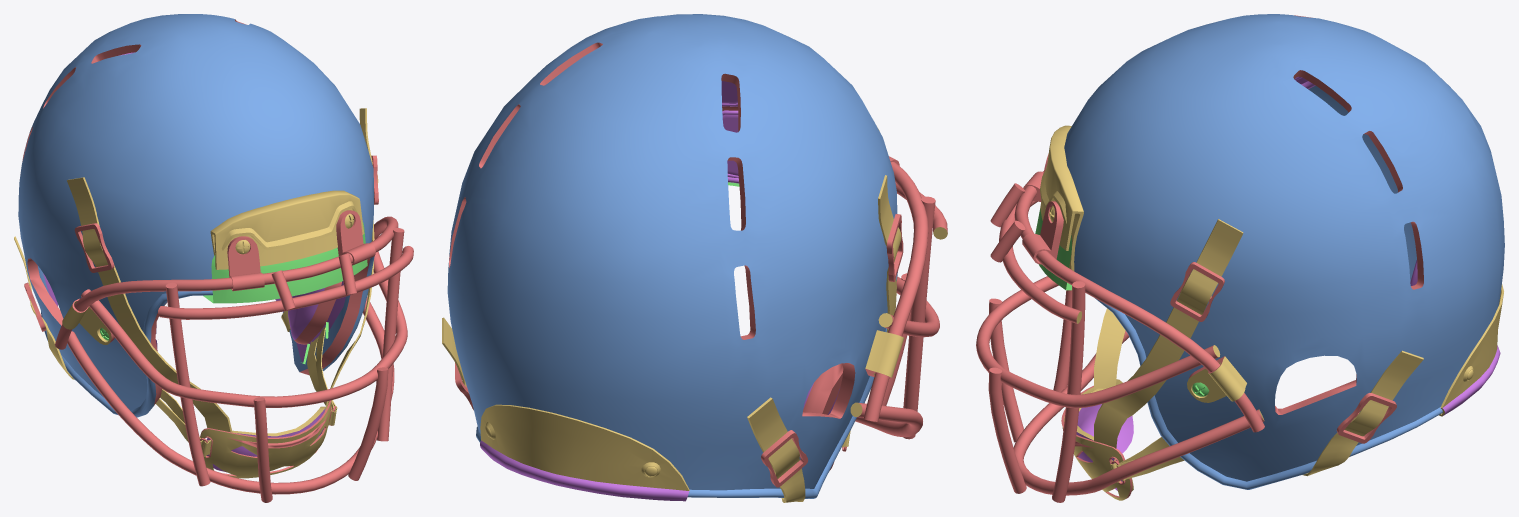
File: helmet_glossy_VERSION_B.glb
The picture shows the model from 3 angles, left to right: view 1: azimuth 30°, elevation 25°; view 2: azimuth 150°, elevation 25°; view 3: azimuth 270°, elevation 25°; orthographic projection. The views are drawn at different scales.
Visible parts, largest first — view 1: Shell_Combined, Facemask_Combined, Chinstrap_Combined, Hardware_Combined, Padding_Combined; view 2: Shell_Combined, Chinstrap_Combined, Facemask_Combined, Padding_Combined; view 3: Shell_Combined, Facemask_Combined, Chinstrap_Combined, Padding_Combined, Hardware_Combined.
Part boxes in pixels (left/top/right/bottom): Shell_Combined: left=18, top=14, right=374, bottom=417; Facemask_Combined: left=22, top=19, right=413, bottom=502; Chinstrap_Combined: left=14, top=108, right=378, bottom=478; Hardware_Combined: left=100, top=222, right=367, bottom=364; Padding_Combined: left=43, top=52, right=345, bottom=472; Shell_Combined: left=447, top=14, right=897, bottom=498; Chinstrap_Combined: left=442, top=129, right=947, bottom=502; Facemask_Combined: left=449, top=42, right=947, bottom=487; Padding_Combined: left=480, top=81, right=839, bottom=501; Shell_Combined: left=1064, top=14, right=1504, bottom=489; Facemask_Combined: left=976, top=15, right=1423, bottom=502; Chinstrap_Combined: left=1040, top=125, right=1503, bottom=500; Padding_Combined: left=1076, top=76, right=1500, bottom=490; Hardware_Combined: left=1035, top=208, right=1209, bottom=396.
Bounding box in the file's own units: 3.64 × 4.39 × 4.72.
